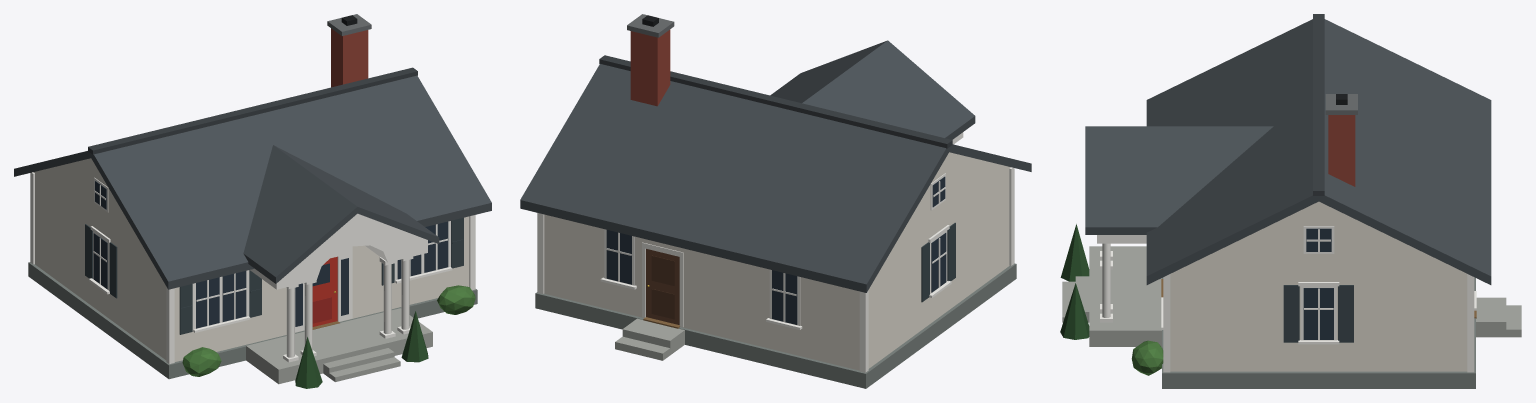
The model's file is ClassicHouse.glb.
The picture shows the model from 3 angles, left to right: view 1: azimuth 30°, elevation 25°; view 2: azimuth 150°, elevation 25°; view 3: azimuth 270°, elevation 25°; orthographic projection. The views are drawn at different scales.
Parts seen in each view (by area): view 1: Roof, PorchRoof, Stoop, WallLeft1, WallLeft4, Pediment, Foundation, RidgeCap, GableL, WallFront9, Chimney, WallFront7 (+34 smaller); view 2: Roof, PorchRoof, Foundation, WallBack4, WallLeft4, WallLeft1, WallBack9, WallBack1, GableL, RidgeCap, Chimney, BackStep (+16 smaller); view 3: Roof, PorchRoof, WallRight4, WallRight1, GableR, Stoop, Foundation, RidgeCap, Chimney, SideGlassR, BackStep, ConiferR (+15 smaller).
Part boxes in pixels (box(x1,y1,x2,y2)): Roof: box(14, 75, 491, 289); PorchRoof: box(243, 145, 439, 283); Stoop: box(246, 308, 432, 384); WallLeft1: box(35, 173, 94, 307); WallLeft4: box(108, 226, 166, 359); Pediment: box(250, 213, 427, 289); Foundation: box(28, 262, 477, 379); RidgeCap: box(88, 67, 417, 154); GableL: box(34, 158, 147, 254); WallFront9: box(339, 245, 397, 321); Chimney: box(331, 28, 368, 87); WallFront7: box(245, 279, 304, 344); Roof: box(520, 64, 1031, 292); PorchRoof: box(770, 40, 975, 139); Foundation: box(535, 263, 1016, 388); WallBack4: box(680, 247, 772, 349); WallLeft4: box(945, 168, 1008, 312); WallLeft1: box(868, 225, 930, 368); WallBack9: box(544, 214, 607, 308); WallBack1: box(797, 277, 859, 370); GableL: box(888, 152, 1009, 256); RidgeCap: box(599, 55, 952, 148); Chimney: box(630, 29, 670, 106); BackStep: box(622, 318, 684, 354); Roof: box(1146, 19, 1491, 284); PorchRoof: box(1085, 126, 1273, 234); WallRight4: box(1171, 269, 1303, 371); WallRight1: box(1334, 269, 1466, 371); GableR: box(1180, 201, 1457, 269); Stoop: box(1089, 246, 1161, 346); Foundation: box(1162, 277, 1475, 388); RidgeCap: box(1313, 14, 1324, 195); Chimney: box(1328, 115, 1355, 186); SideGlassR: box(1303, 288, 1333, 339); BackStep: box(1476, 297, 1506, 337); ConiferR: box(1060, 283, 1089, 339).
Size of the model in its own units: 10.95 by 7.69 by 12.06.
